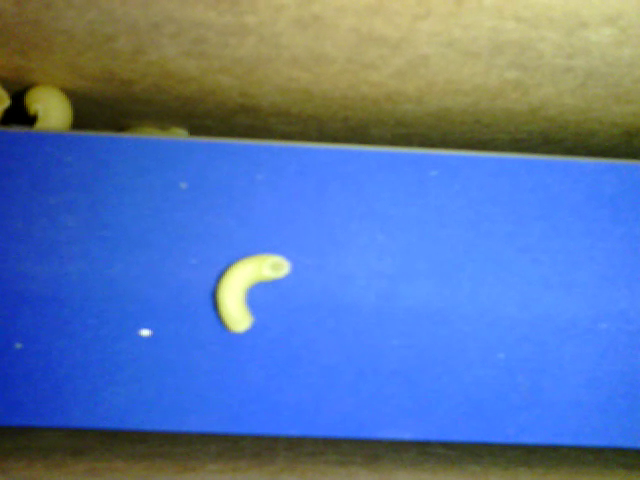elbow: (212, 251, 293, 337)
shell: (24, 83, 74, 134)
